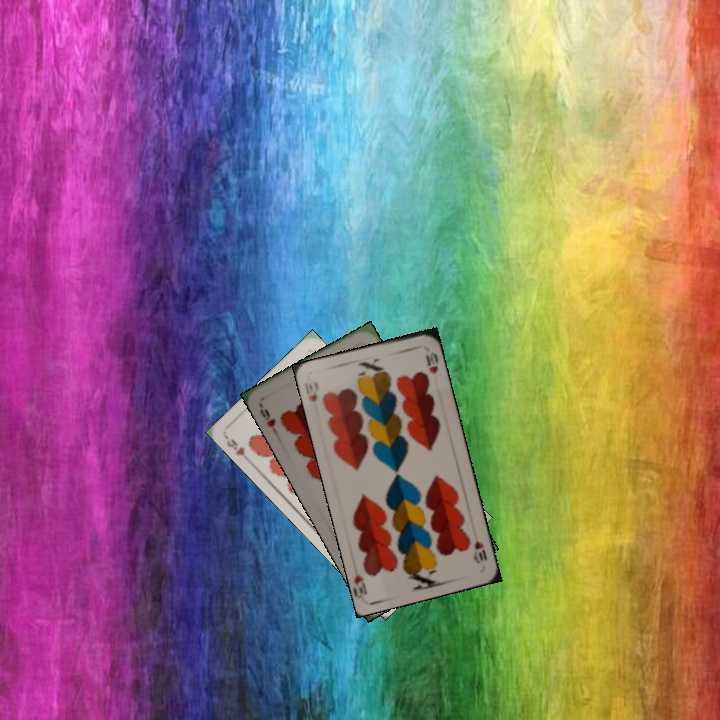H10: (469, 536, 489, 566), (300, 377, 321, 405)
H9: (222, 435, 254, 466), (255, 400, 281, 438)
